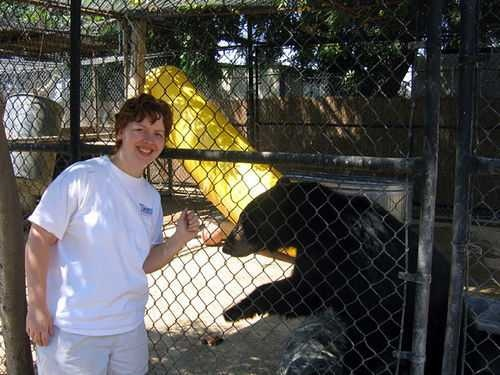bear: (218, 163, 346, 291)
